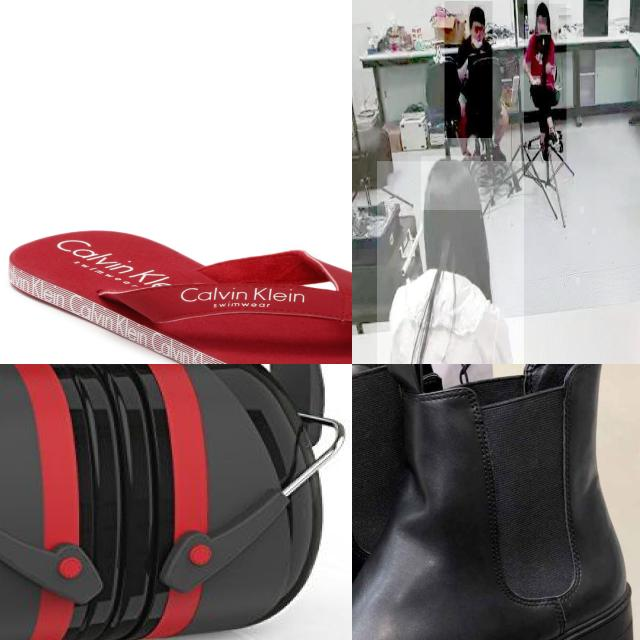Ear-protection: (114, 364, 328, 640), (0, 364, 115, 640)
Sandals: (352, 364, 640, 640), (4, 226, 352, 364)
face_nomask: (535, 17, 547, 33)
hand_noglove: (530, 76, 541, 86)
head_nohelmet: (421, 156, 481, 211), (468, 5, 485, 22), (534, 0, 550, 16)
person: (377, 161, 524, 364), (524, 4, 567, 162), (445, 1, 493, 139)
